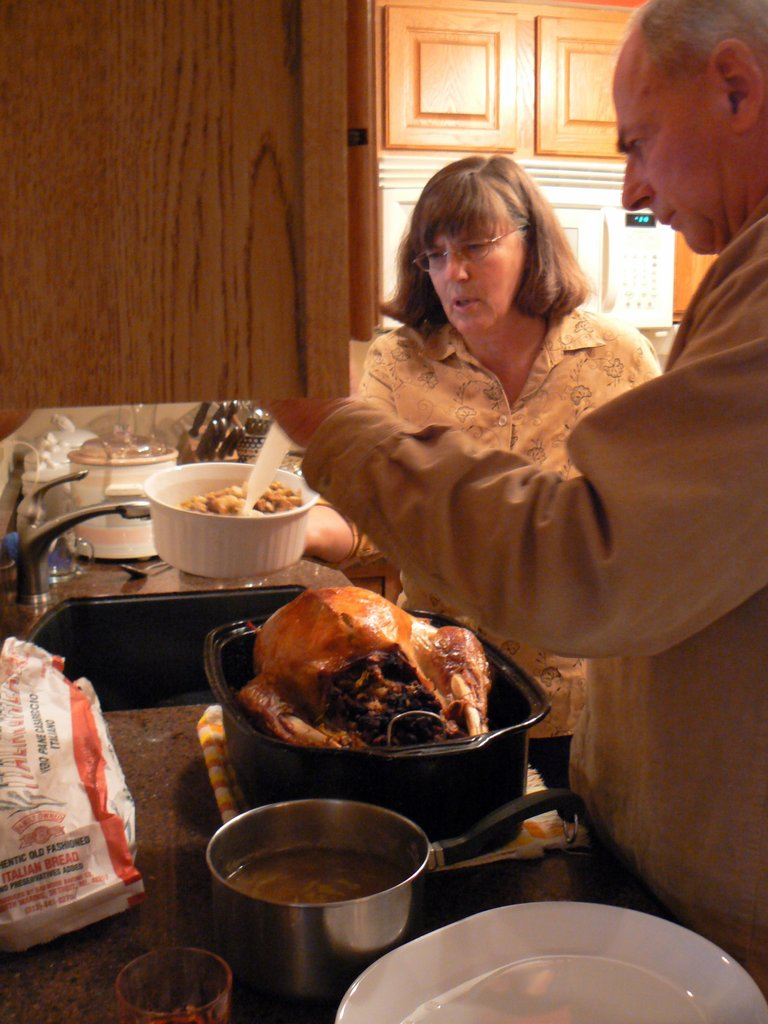Person: (259, 0, 768, 1002)
